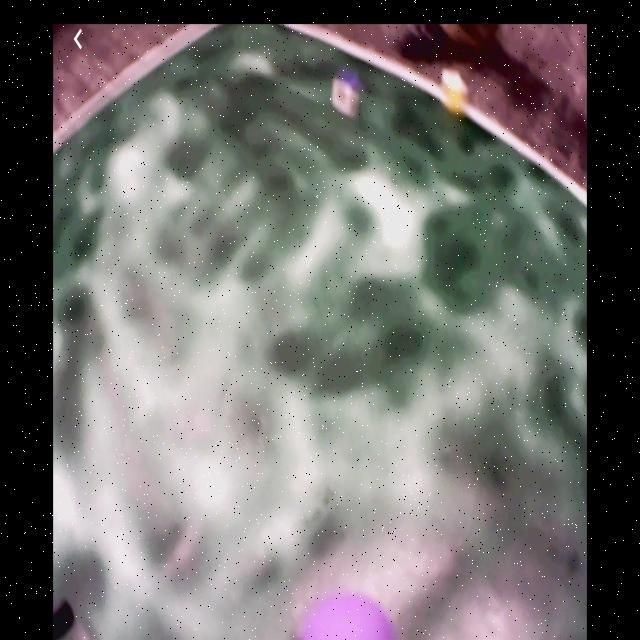ball: (298, 589, 398, 640)
